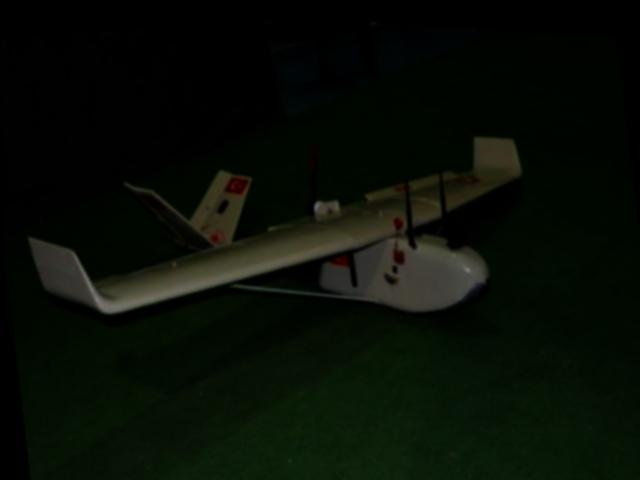iha: (1, 95, 563, 374)
